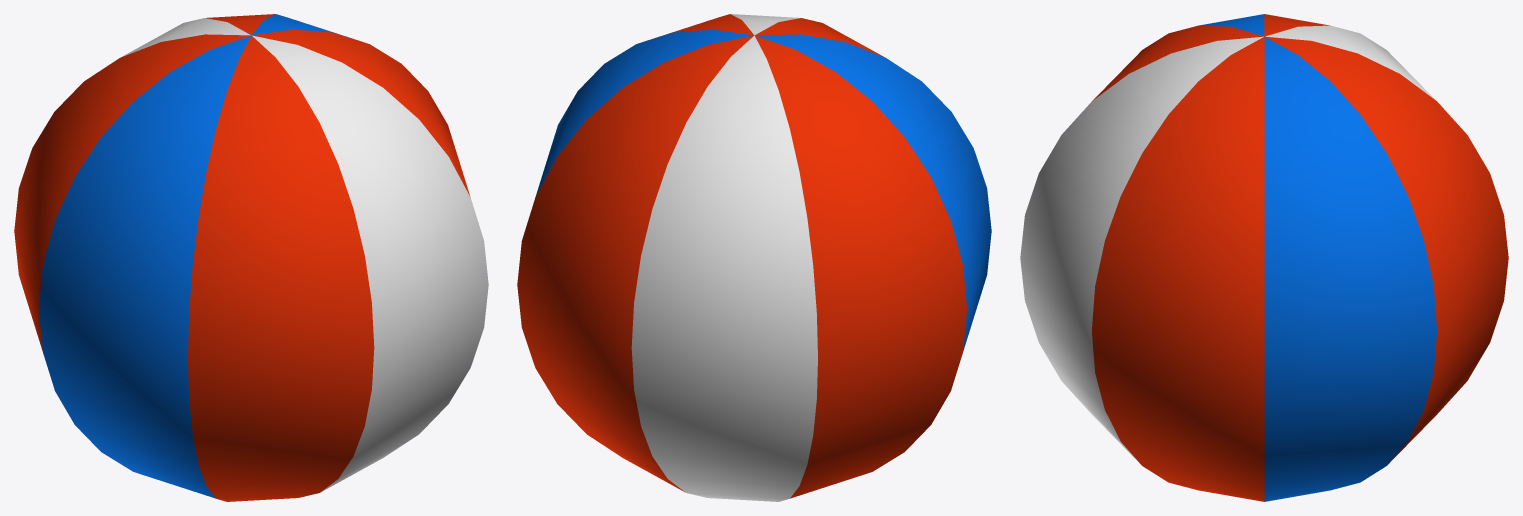
File: BeachBall.fbx
3 views of the same model, side by side, from view 1: azimuth 30°, elevation 25°; view 2: azimuth 150°, elevation 25°; view 3: azimuth 270°, elevation 25° (orthographic).
Visible parts, largest first — view 1: Sphere; view 2: Sphere; view 3: Sphere.
Part boxes in pixels (x1,y1,x2,y2): Sphere: (14,14,488,501); Sphere: (517,14,991,501); Sphere: (1020,14,1508,501).
Bounding box in the file's own units: 139 × 139 × 139.
